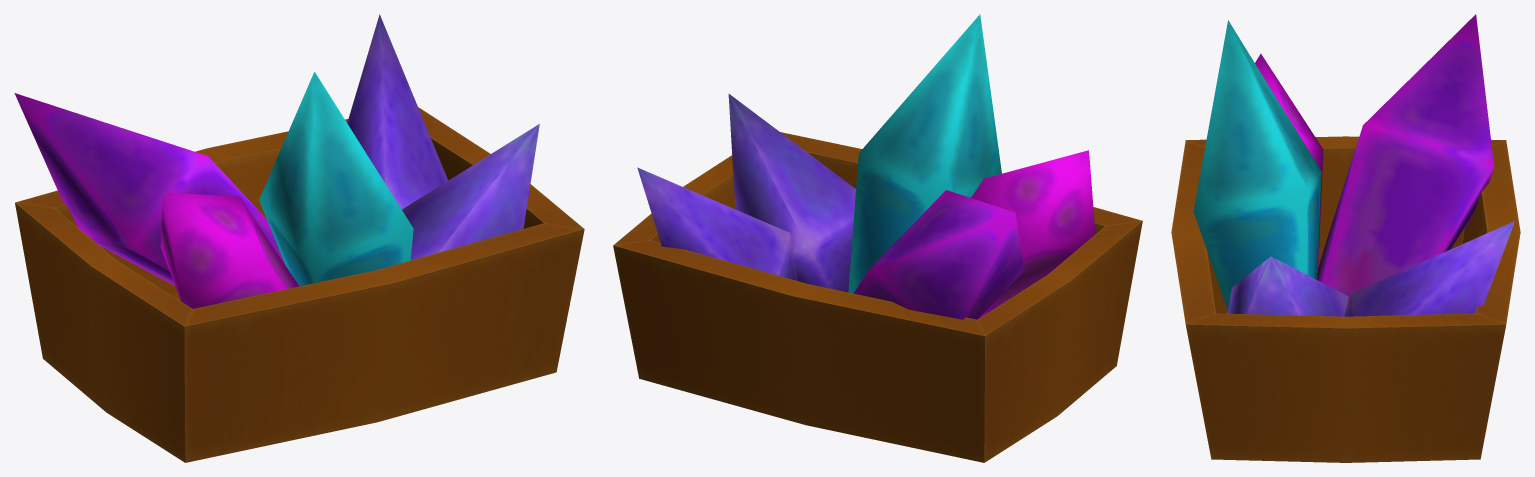
File: GAM0110026.fbx
The picture shows the model from 3 angles, left to right: view 1: azimuth 30°, elevation 25°; view 2: azimuth 150°, elevation 25°; view 3: azimuth 270°, elevation 25°; orthographic projection. The views are drawn at different scales.
Visible parts, largest first — view 1: smGAM0110026; view 2: smGAM0110026; view 3: smGAM0110026.
Part boxes in pixels (bbox=[...]): smGAM0110026: bbox=[14, 14, 584, 462]; smGAM0110026: bbox=[613, 14, 1142, 462]; smGAM0110026: bbox=[1171, 14, 1520, 462].
Bounding box in the file's own units: 93.63 × 74.01 × 70.54.
Materials: 1 (1 with a texture image).
